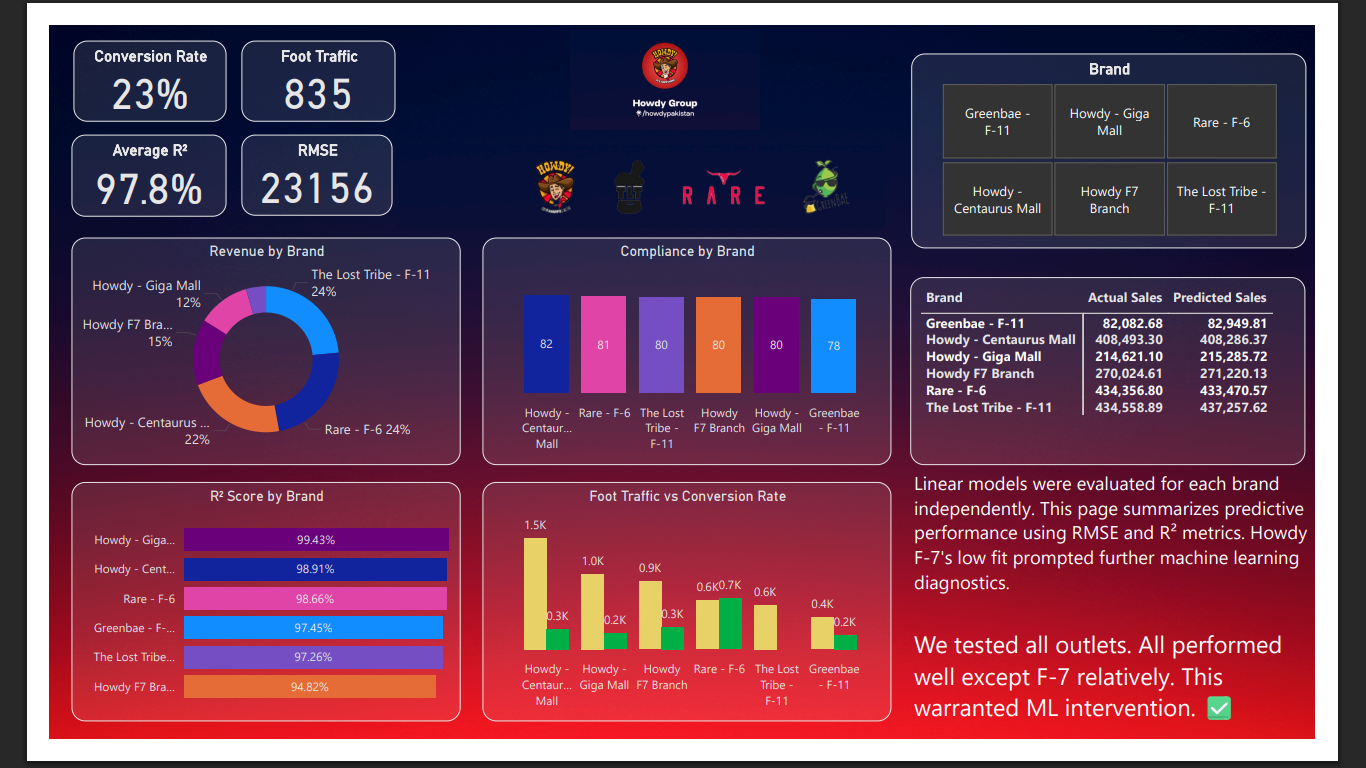

Layout of this report page (visuals, bound fields, positions):
{"tool":"powerbi","page":{"name":" Segmented Regression Model Comparison","canvas":[1280,720],"ordinal":0},"visuals":[{"type":"card","title":"Average R²","fields":{"Values":["Avg(AllOutletsModel.R2_Score)"]},"box":[21.7,109.8,156.8,83.2],"z":0},{"type":"card","title":"RMSE","fields":{"Values":["Avg(AllOutletsModel.RMSE)"]},"box":[194,110.2,152.8,82.3],"z":1000},{"type":"donutChart","title":"Revenue by Brand","fields":{"Category":["AllOutletsModel.Brand"],"Y":["Sum(AllOutletsModel.Total_Sales_PKR)"]},"box":[21.7,213.5,394.5,230.4],"z":2000},{"type":"columnChart","title":"Compliance by Brand","fields":{"Y":["Avg(AllOutletsModel.Compliance_Score)"],"Category":["AllOutletsModel.Brand"],"Series":["AllOutletsModel.Outlet_ID"]},"box":[437.9,213.5,413.8,230.4],"z":3000},{"type":"pivotTable","fields":{"Rows":["AllOutletsModel.Brand"],"Values":["Avg(AllOutletsModel.Total_Sales_PKR)","Avg(AllOutletsModel.Predicted_Sales_LR)"]},"box":[871.4,254.3,400,190],"z":4000},{"type":"barChart","title":"R² Score by Brand","fields":{"Category":["AllOutletsModel.Brand"],"Y":["Avg(AllOutletsModel.R2_Score)"],"Series":["AllOutletsModel.Outlet_ID"]},"box":[21.7,460.9,394.5,242.5],"z":5000},{"type":"clusteredColumnChart","title":"Foot Traffic vs Conversion Rate","fields":{"Category":["AllOutletsModel.Brand"],"Y":["Avg(AllOutletsModel.Foot_Traffic_Adjusted)","Avg(AllOutletsModel.Conversion_Rate)"]},"box":[437.9,460.9,413.8,242.5],"z":6000},{"type":"slicer","title":"Brand","fields":{"Values":["AllOutletsModel.Brand"]},"box":[871.7,28.3,400,196.7],"z":7000},{"type":"textbox","box":[869.9,443.8,410,276.2],"z":8000},{"type":"image","box":[347.2,111.1,502.8,101.4],"z":9000},{"type":"image","box":[409,0,427,110],"z":10000},{"type":"card","title":"Conversion Rate","fields":{"Values":["Avg(AllOutletsModel.Simulated_Conversion_Rate)"]},"box":[23.5,14.7,155.8,82.3],"z":11000},{"type":"card","title":"Foot Traffic","fields":{"Values":["Avg(AllOutletsModel.Foot_Traffic_Adjusted)"]},"box":[194,14.7,155.8,82.3],"z":12000}]}

Visuals, with their boxes in screenshot pixels (x1, y1, x2, y2), scaled from the page's 1280x720 canvas onto the 1366x768 screenshot:
"Average R²" card: (x1=23, y1=117, x2=190, y2=206)
"RMSE" card: (x1=207, y1=118, x2=370, y2=205)
"Revenue by Brand" donutChart: (x1=23, y1=228, x2=444, y2=473)
"Compliance by Brand" columnChart: (x1=467, y1=228, x2=909, y2=473)
pivotTable - AllOutletsModel.Brand x Avg(AllOutletsModel.Total_Sales_PKR): (x1=930, y1=271, x2=1357, y2=474)
"R² Score by Brand" barChart: (x1=23, y1=492, x2=444, y2=750)
"Foot Traffic vs Conversion Rate" clusteredColumnChart: (x1=467, y1=492, x2=909, y2=750)
"Brand" slicer: (x1=930, y1=30, x2=1357, y2=240)
textbox: (x1=928, y1=473, x2=1365, y2=767)
image: (x1=371, y1=119, x2=907, y2=227)
image: (x1=436, y1=0, x2=892, y2=117)
"Conversion Rate" card: (x1=25, y1=16, x2=191, y2=103)
"Foot Traffic" card: (x1=207, y1=16, x2=373, y2=103)
